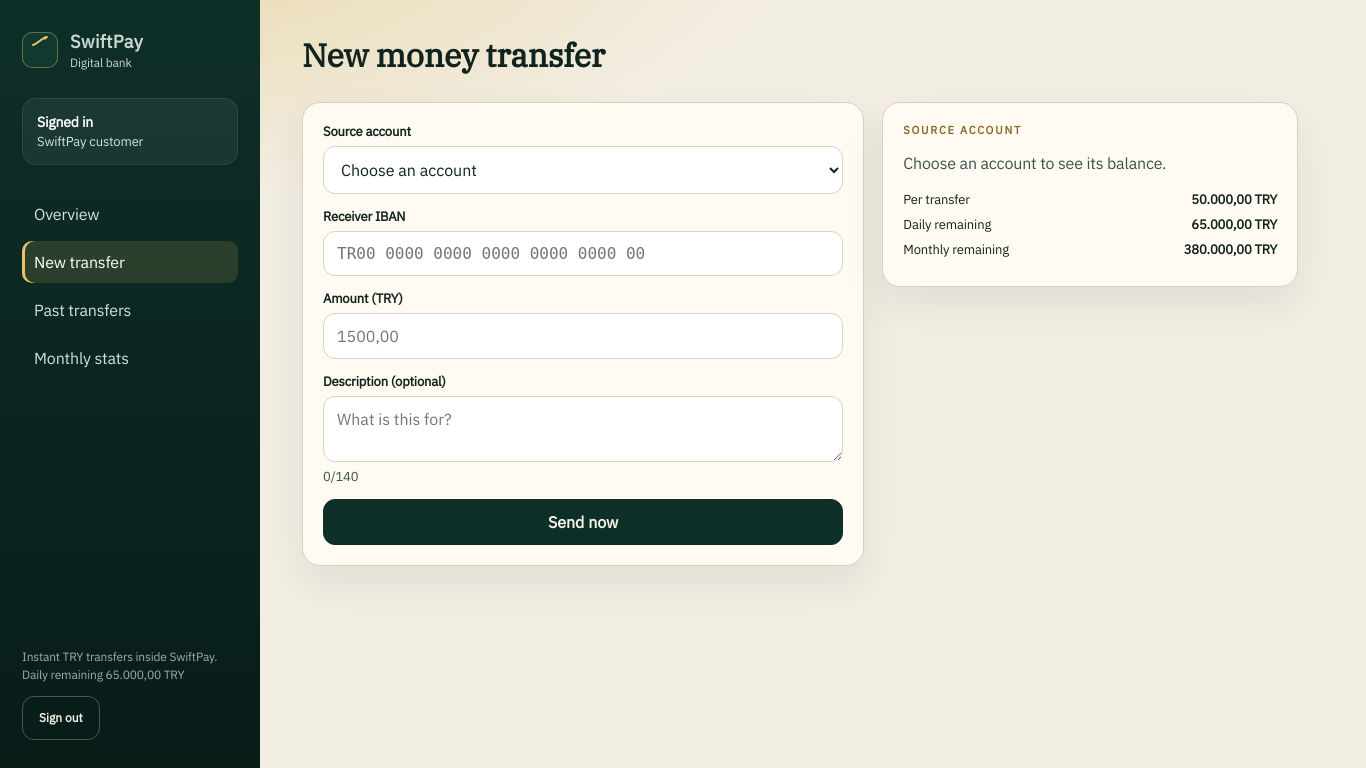
it: New transfer form › 422 PER_TRANSFER_LIMIT_EXCEEDED shows its message and the support code
Select "TR62 **** **** **** **** 1001 — 250.000,00 TRY" in the dropdown labelled "Source account" at (583, 170), box [323,146,843,194]
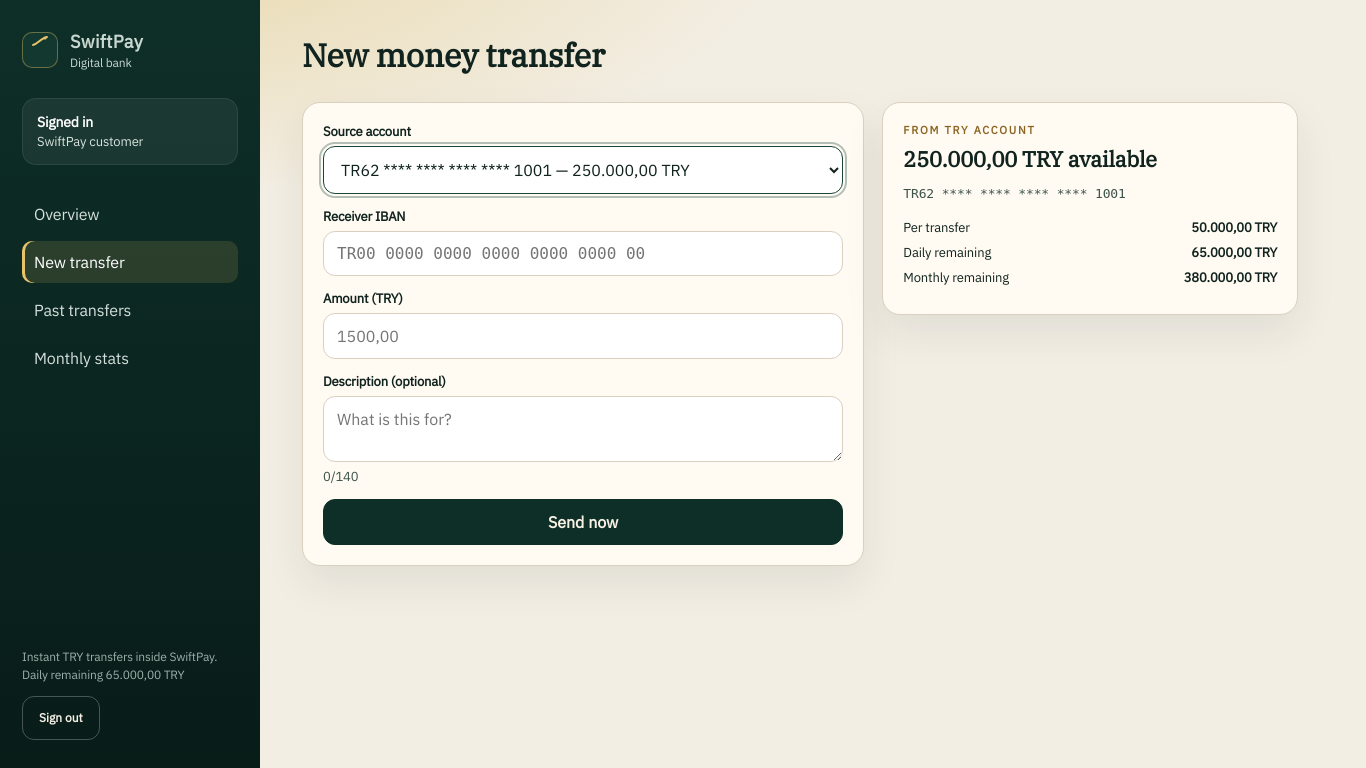
Type "TR690006200000000000002001" into the field labelled "Receiver IBAN" at (583, 254), box [323,231,843,276]
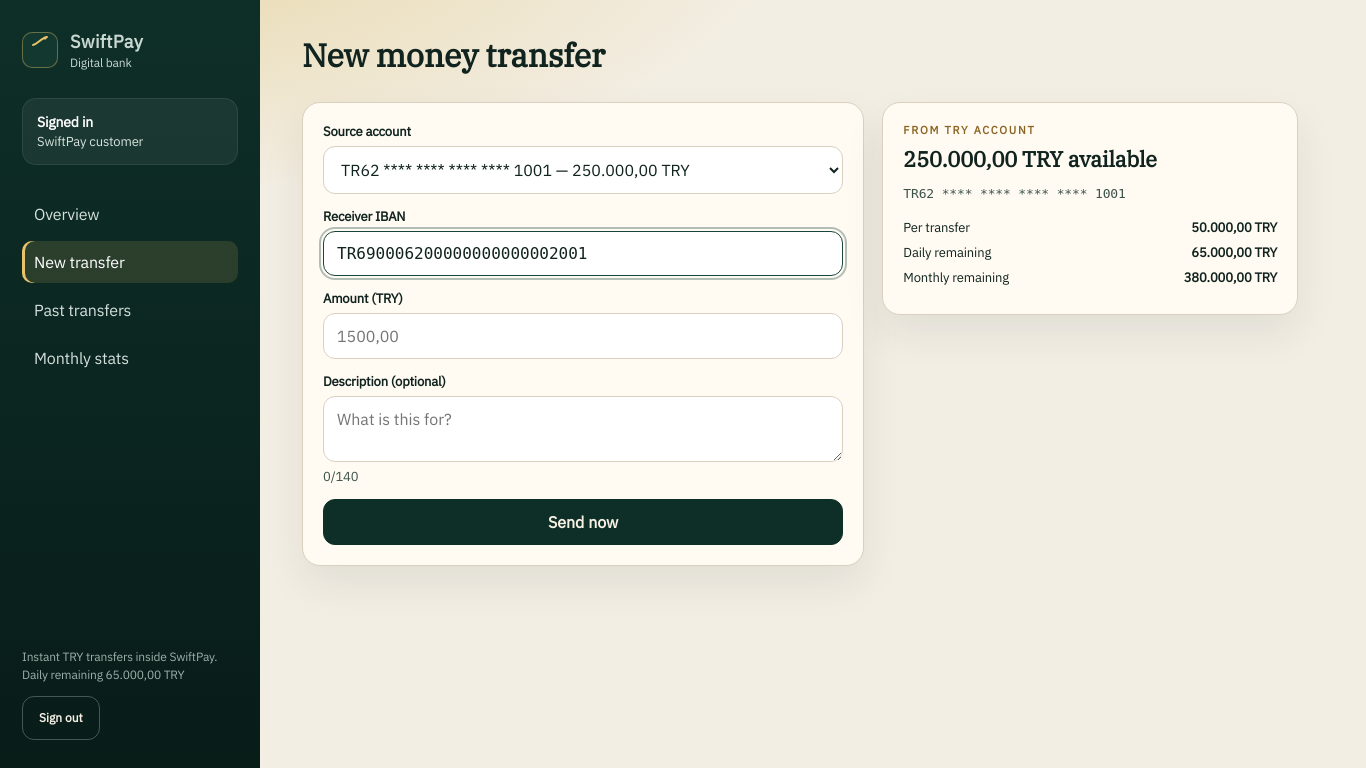
Type "1500" into the field labelled "Amount (TRY)" at (583, 336), box [323,313,843,359]
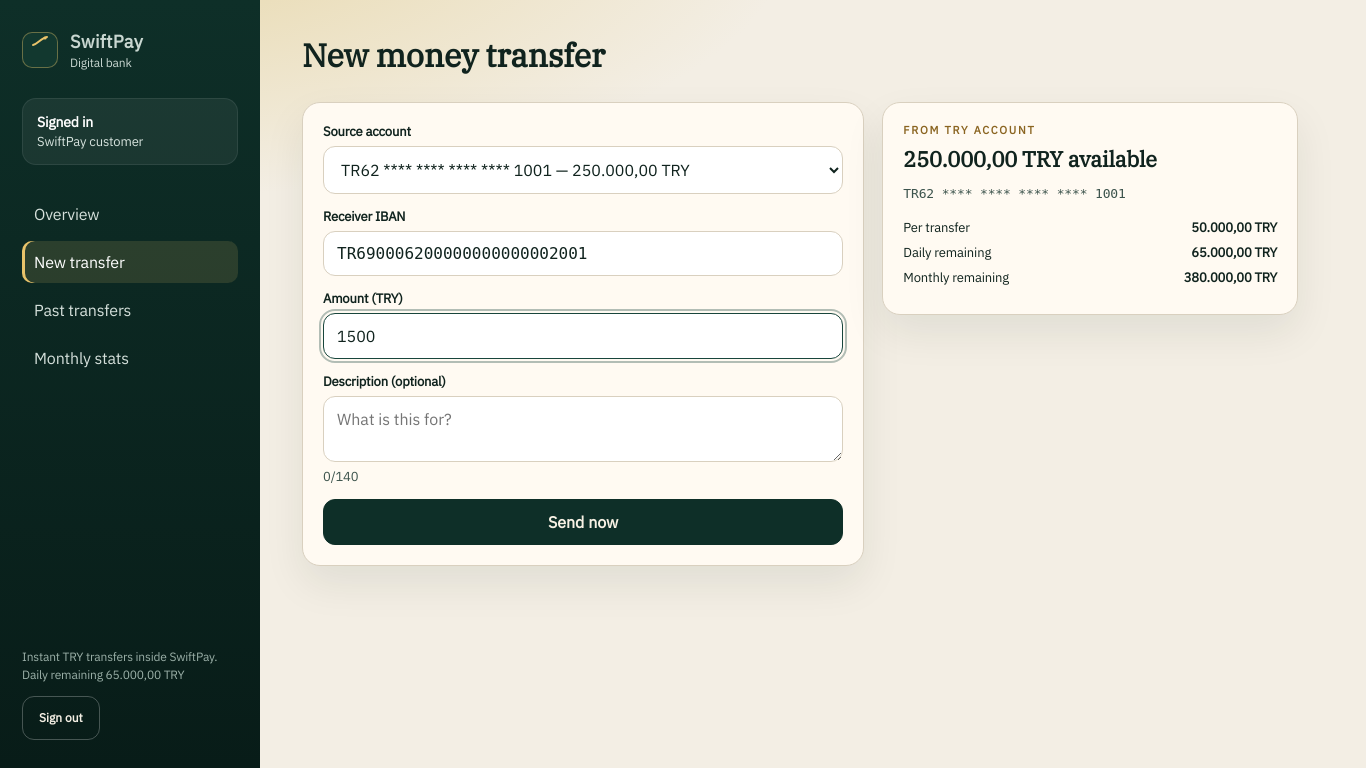
Type "Kira" into the text box labelled "Description (optional)" at (583, 429), box [323,396,843,462]
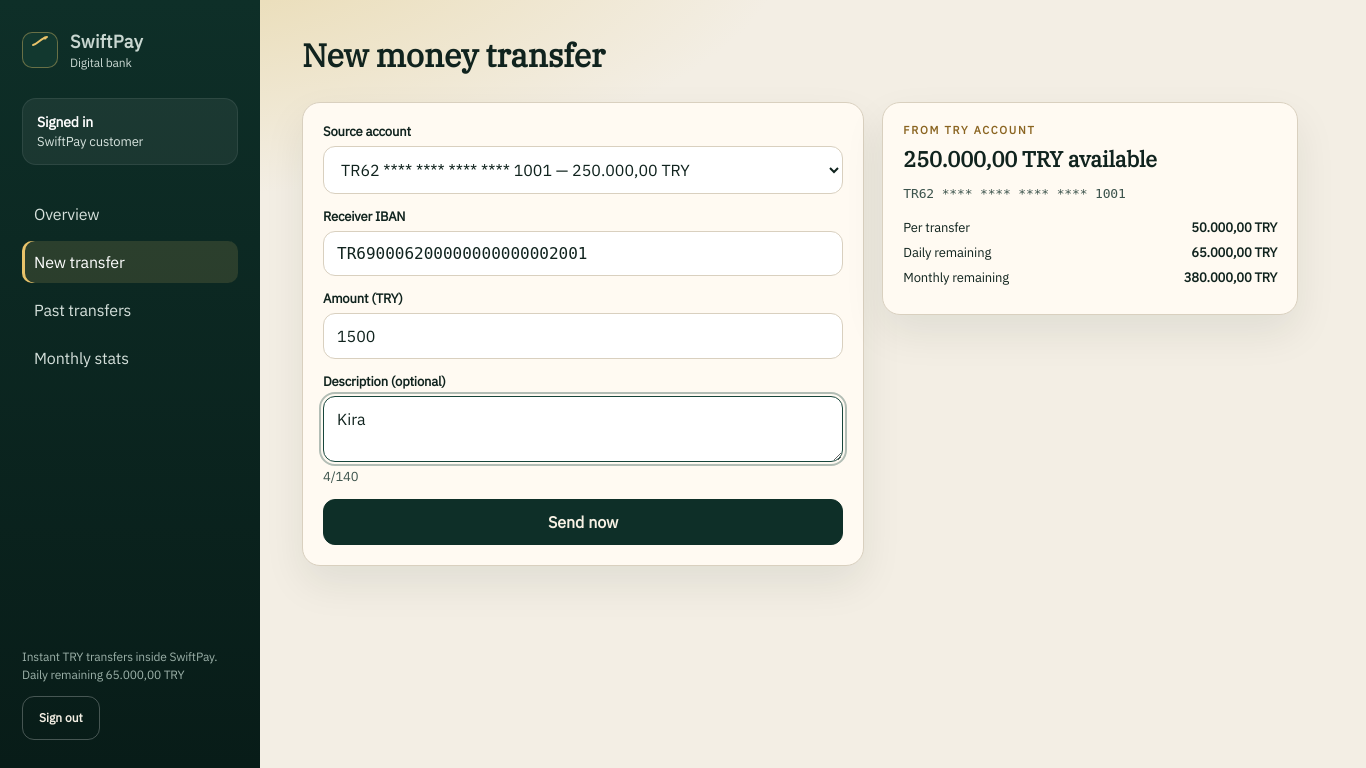
Click the button "Send now" at (583, 522), box [323,499,843,545]
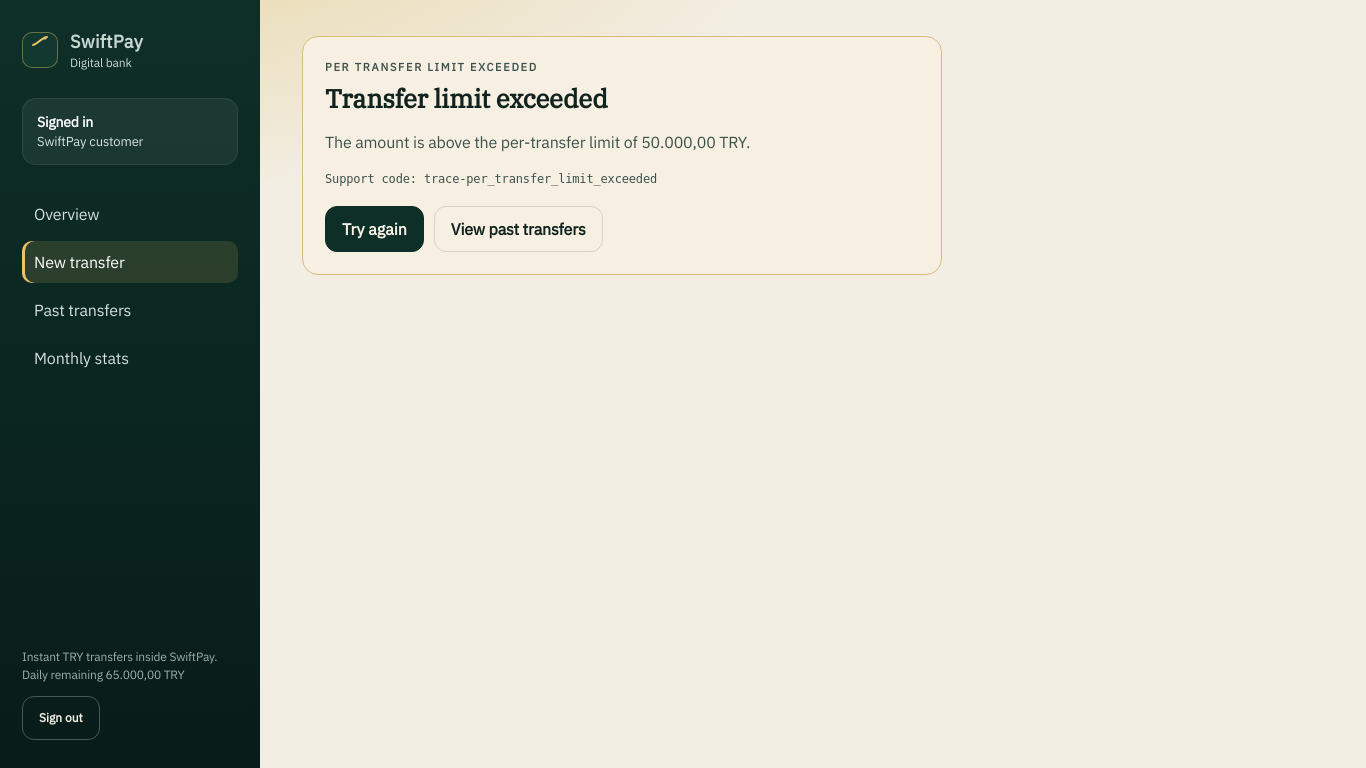
Expected: the text "above the per-transfer limit" is shown, [325,132,750,152]
